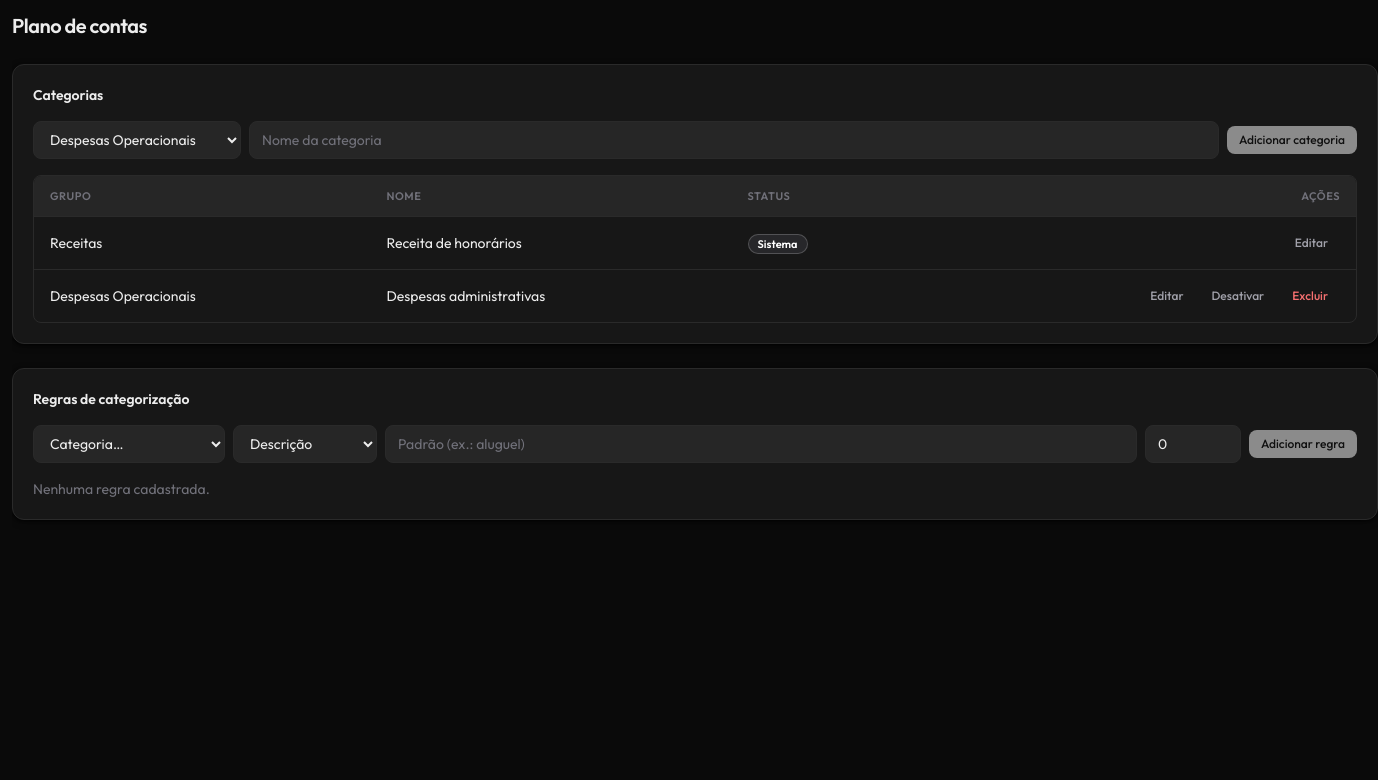
PlanoContasCadastro › excluir categoria em uso mostra o toast do CATEGORIA_EM_USO (não genérico)
This screenshot has width=1378, height=780.
Expected: the text "Despesas administrativas" is shown, [370, 270, 732, 322]
Click the button "Excluir".
click(1310, 296)  # box [1280, 282, 1340, 310]
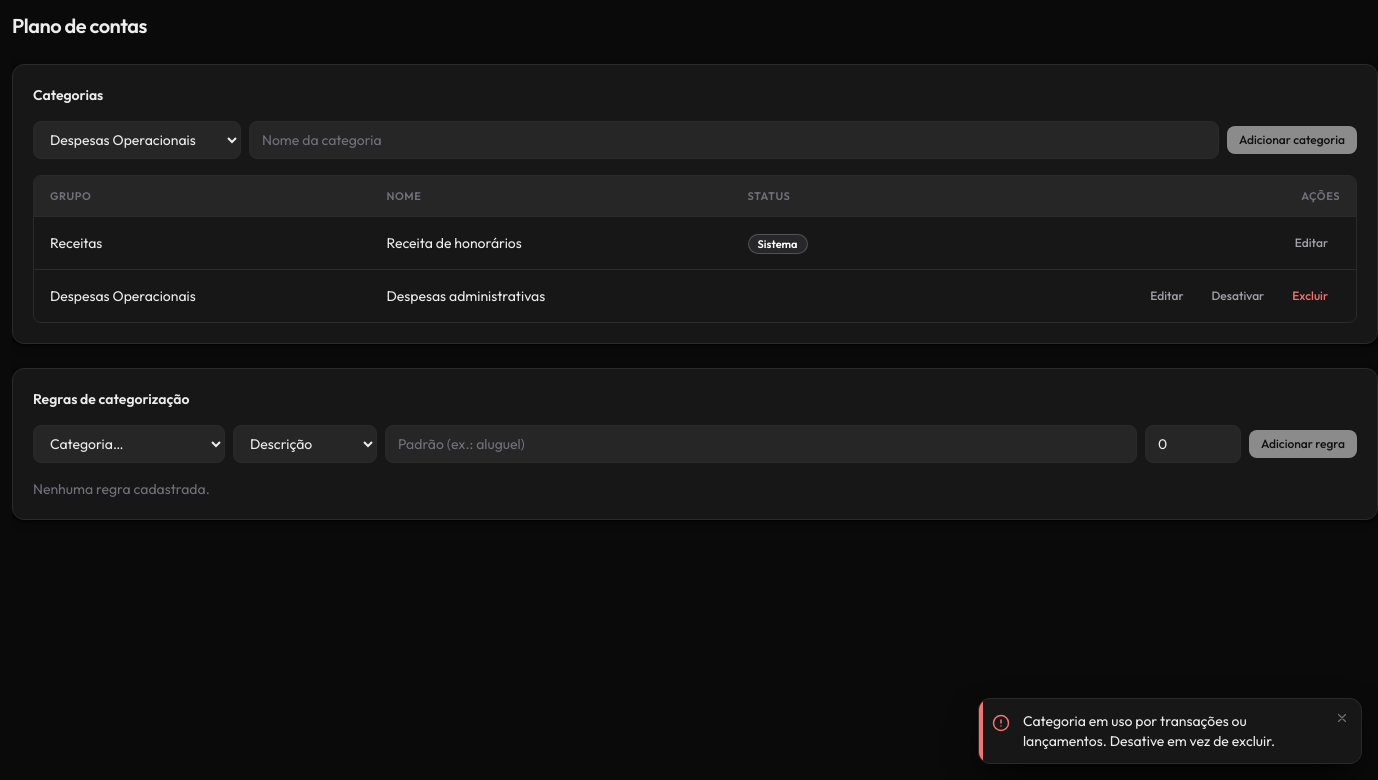
Expected: the text "Categoria em uso por transações ou lançamentos. Desative" is shown, [1023, 712, 1275, 750]
